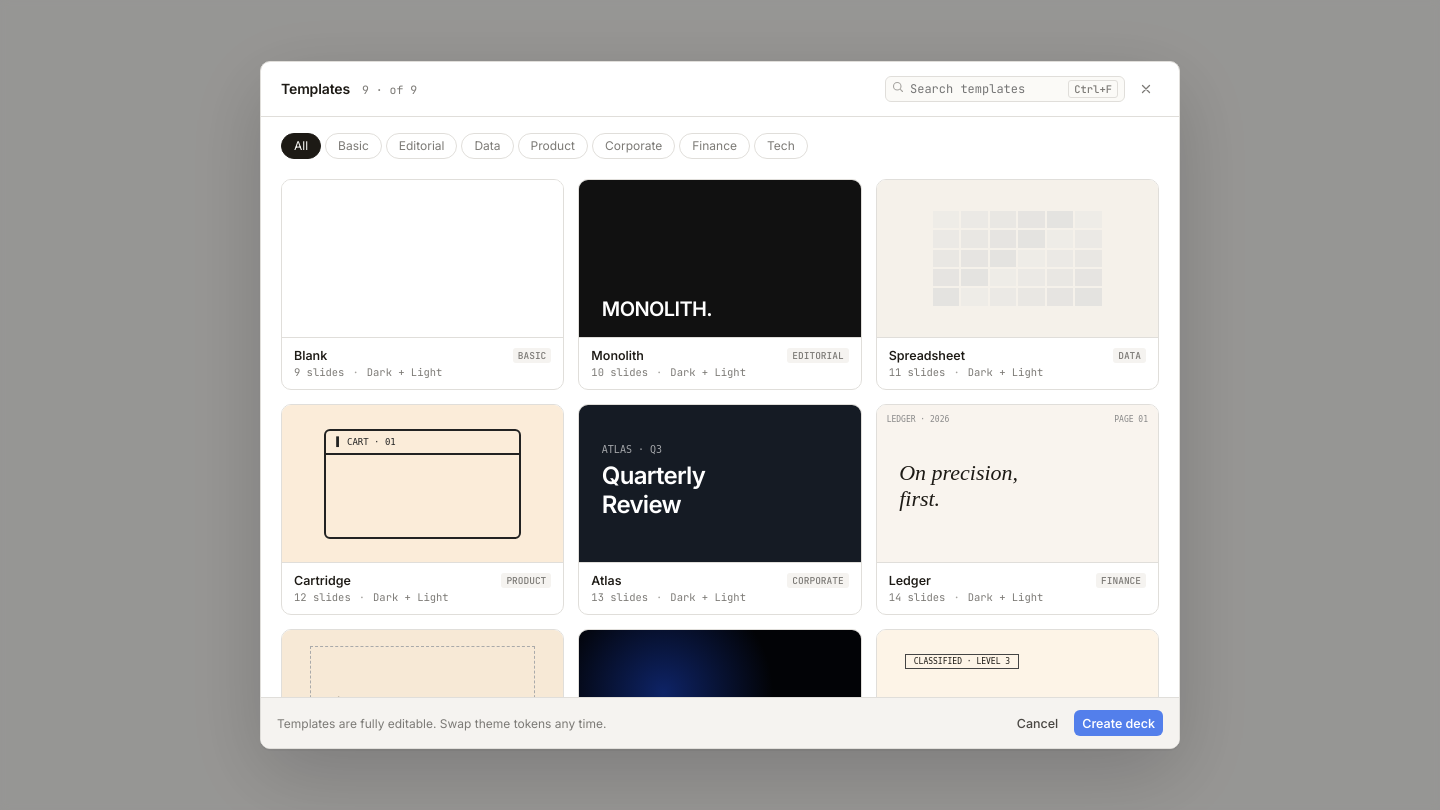
Test: TemplatePicker — search › filters templates by name as you type (case-insensitive, trimmed)
The image size is (1440, 810).
Expected: the text "Atlas" is shown, [591,573,622,588]
Type "  LED " into the field labelled "Search templates" at (986, 89), box [908,77,1064,101]
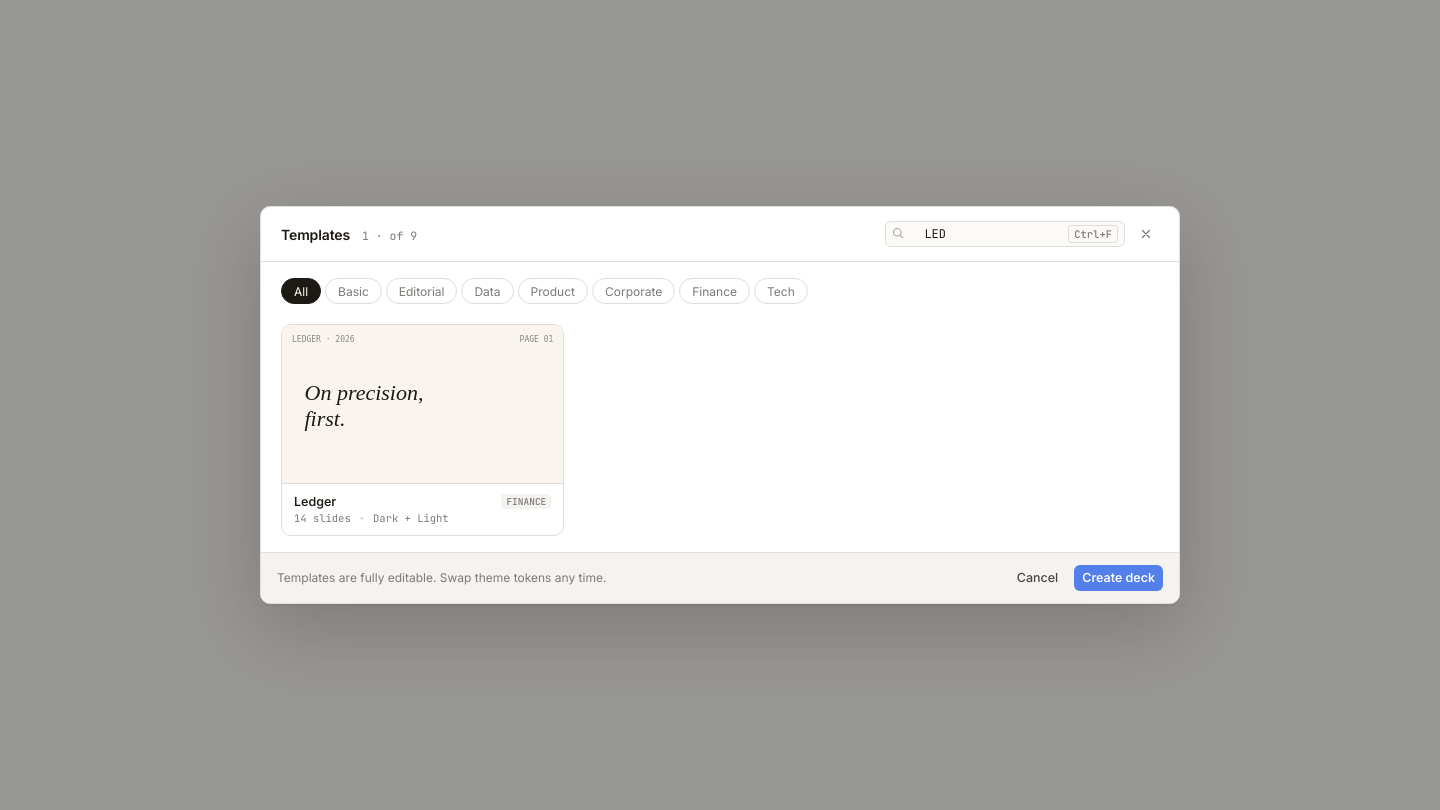
Expected: the text "Ledger" is shown, [294,494,336,509]
Expected: the text "ATLAS" is gone
Expected: the text "MONOLITH" is gone
